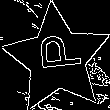P_W: (30, 38, 83, 80)
